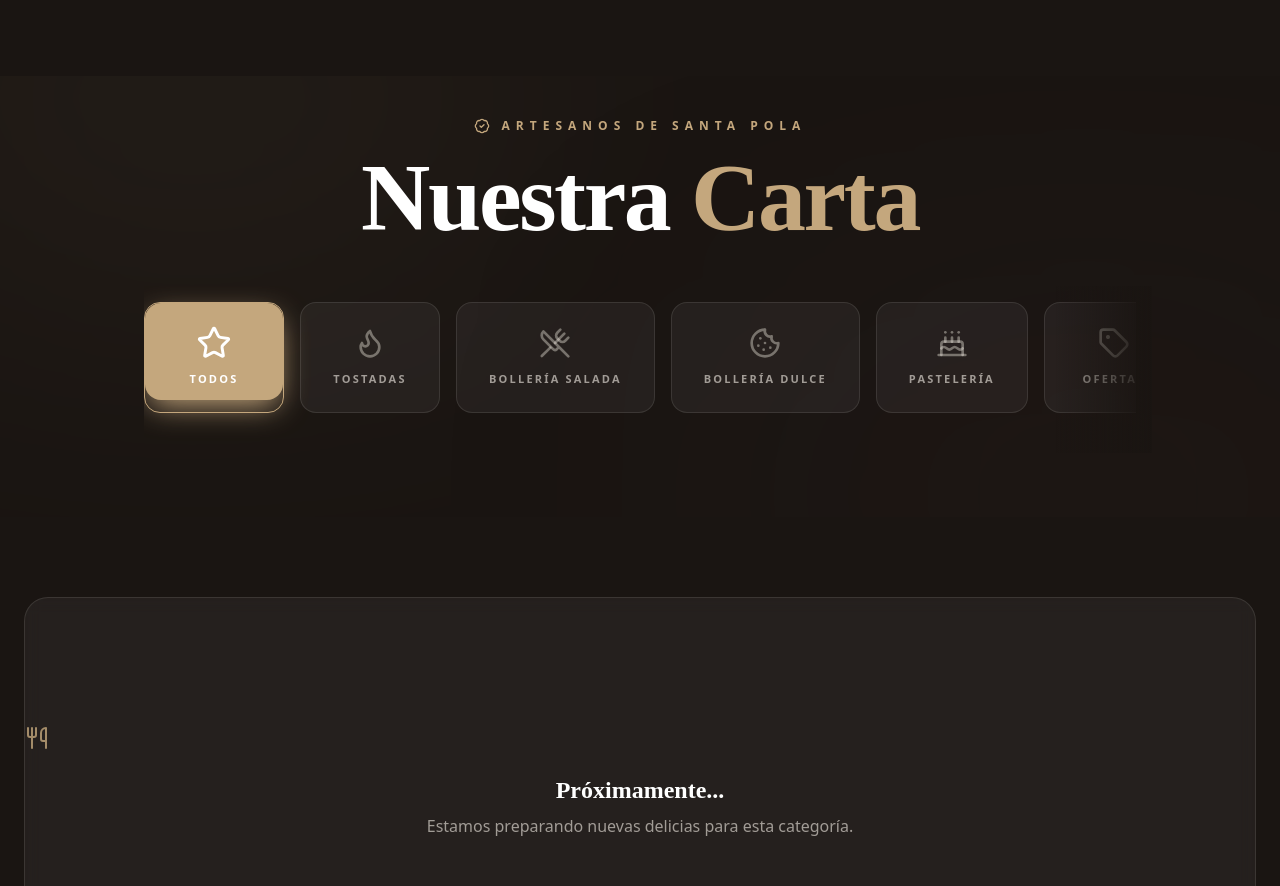
Menu Integration › filtra productos por categoria
Press the mouse on the button "Bollería salada" at point(555, 357), box [456,302,655,412]
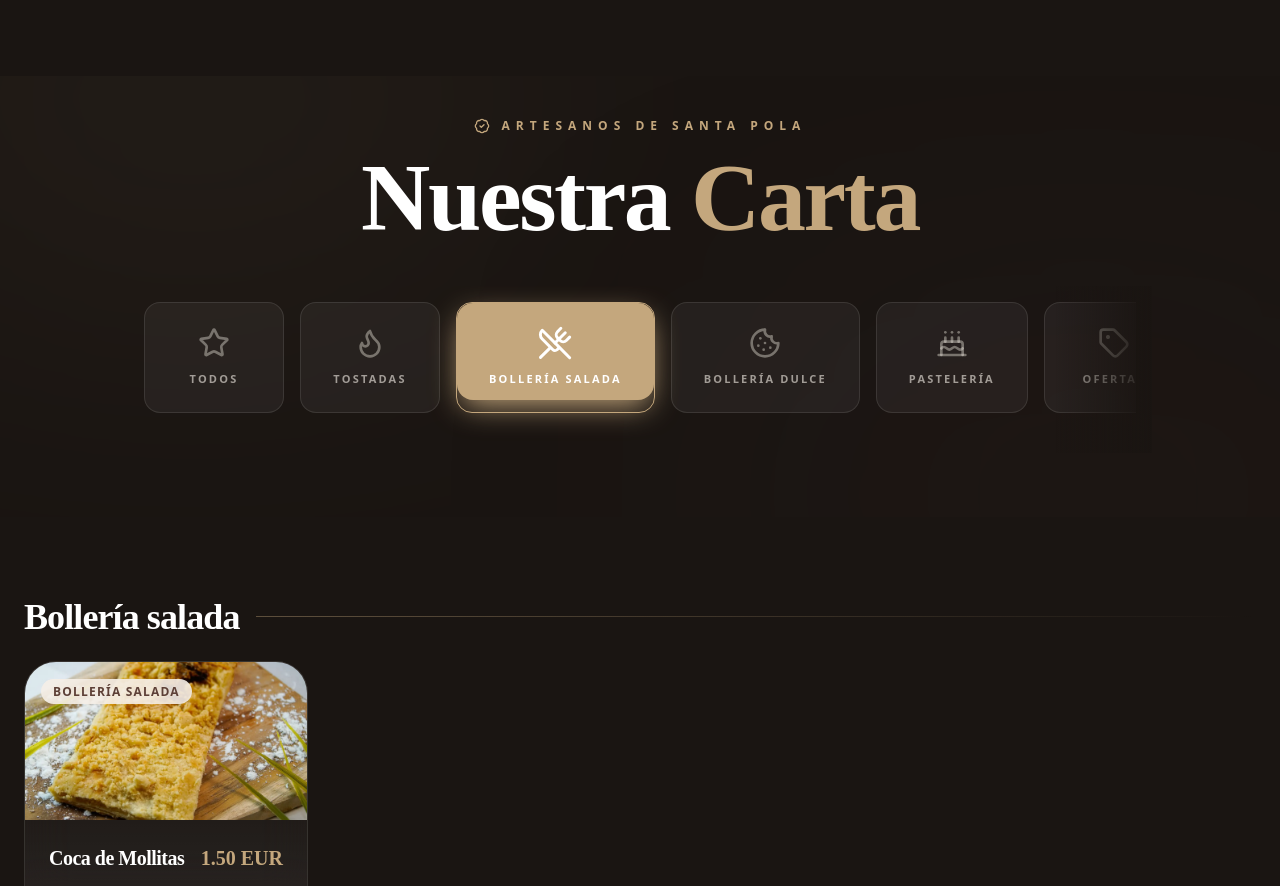
Now the heading "Coca de Mollitas" is shown, box [49,844,184,872]
